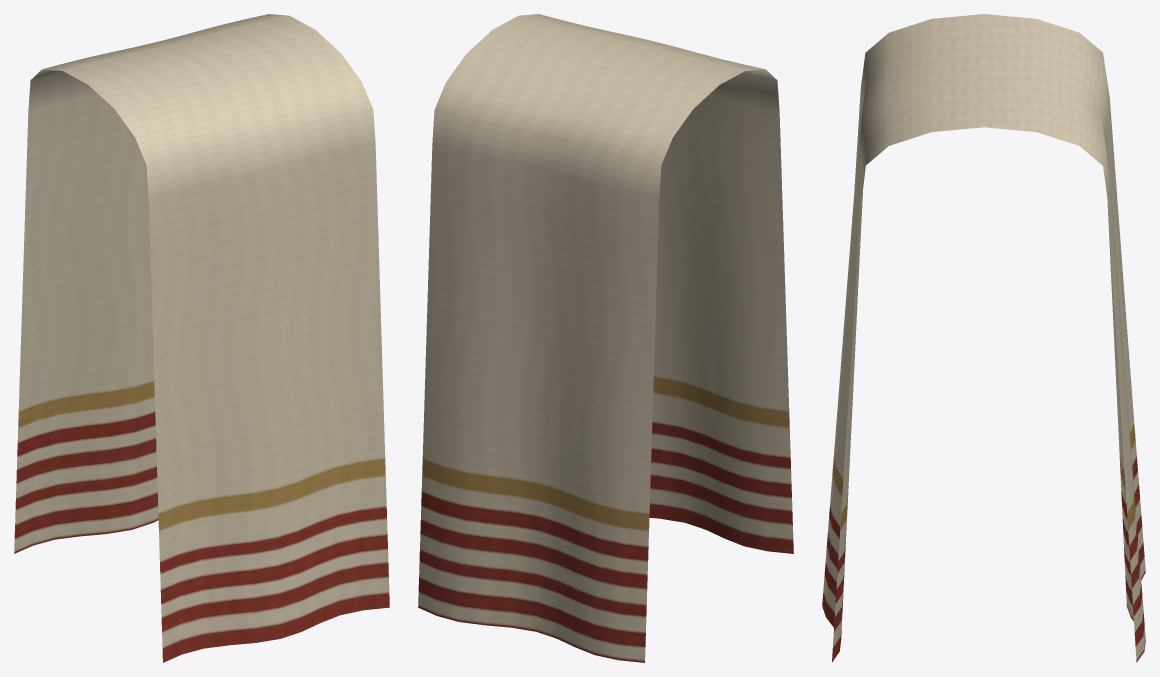
Rendered from cloth_thorthu_shoulder.glb.
The picture shows the model from 3 angles, left to right: view 1: azimuth 30°, elevation 25°; view 2: azimuth 150°, elevation 25°; view 3: azimuth 270°, elevation 25°; orthographic projection. The views are drawn at different scales.
Parts seen in each view (by area): view 1: Cloth_Thorthu_Shoulder; view 2: Cloth_Thorthu_Shoulder; view 3: Cloth_Thorthu_Shoulder.
Boxes of the visible parts, x1=… form: Cloth_Thorthu_Shoulder: x1=14, y1=14, x2=389, y2=662; Cloth_Thorthu_Shoulder: x1=418, y1=14, x2=793, y2=662; Cloth_Thorthu_Shoulder: x1=822, y1=14, x2=1145, y2=662.
Bounding box in the file's own units: 0.22 × 0.485 × 0.2656.
Materials: 1 (1 with a texture image).
